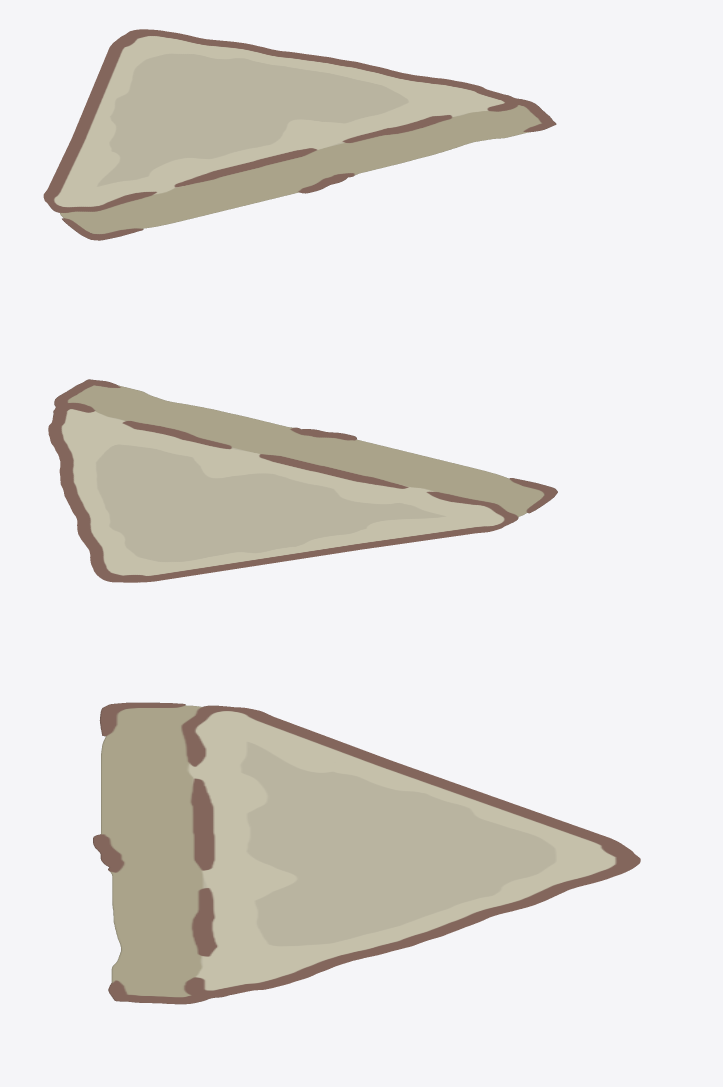
Rendered from Mesh_Tex_Activity_Pachinko_Stone_02.fbx.
3 views of the same model, one above another, from view 1: azimuth 30°, elevation 25°; view 2: azimuth 150°, elevation 25°; view 3: azimuth 270°, elevation 25° (orthographic). The views are drawn at different scales.
Visible parts, largest first — view 1: Mesh_Tex_Activity_Pachinko_Stone_02; view 2: Mesh_Tex_Activity_Pachinko_Stone_02; view 3: Mesh_Tex_Activity_Pachinko_Stone_02.
Boxes of the visible parts, box(x1,y1,x2,y2) form: Mesh_Tex_Activity_Pachinko_Stone_02: box(43, 29, 556, 240); Mesh_Tex_Activity_Pachinko_Stone_02: box(48, 379, 557, 582); Mesh_Tex_Activity_Pachinko_Stone_02: box(93, 702, 640, 1004).
Size of the model in its own units: 322 by 0 by 215.
1 material, 1 textured.
